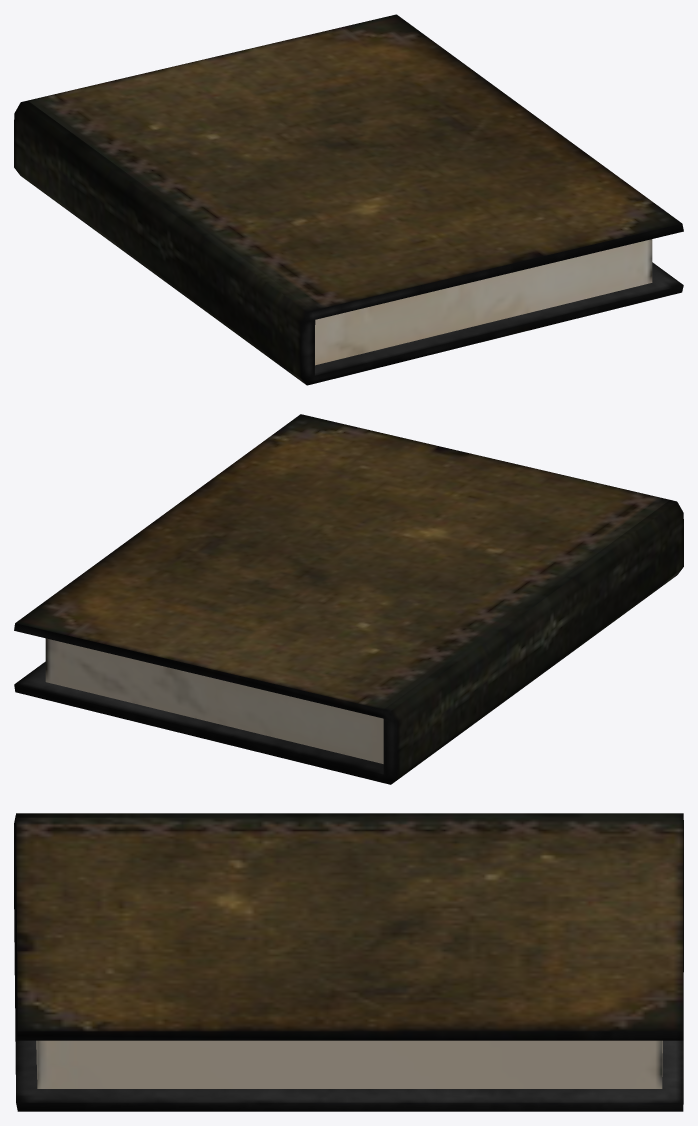
The model's file is doctor_diary.glb.
3 views of the same model, one above another, from view 1: azimuth 30°, elevation 25°; view 2: azimuth 150°, elevation 25°; view 3: azimuth 270°, elevation 25° (orthographic). The views are drawn at different scales.
Parts seen in each view (by area): view 1: Diary_LOD0; view 2: Diary_LOD0; view 3: Diary_LOD0.
Boxes of the visible parts, <box> form: Diary_LOD0: <box>14,14,683,385</box>; Diary_LOD0: <box>14,414,683,784</box>; Diary_LOD0: <box>14,813,683,1111</box>.
Size of the model in its own units: 0.2534 by 0.0464 by 0.3293.
1 material, 1 textured.
